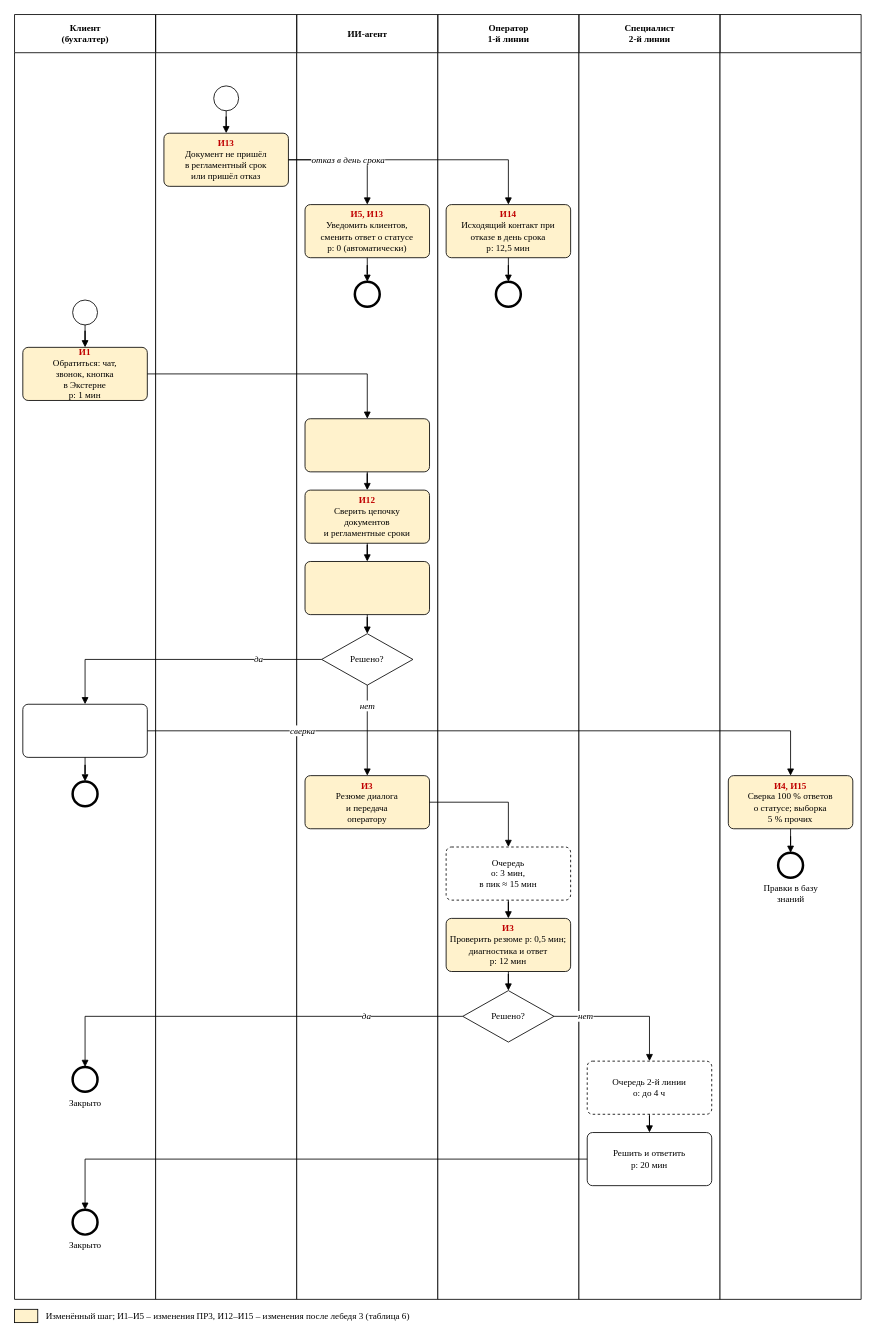
This 876x1342 diagram has some shape labels left out. Each missing label, with the box of its shape:
Вопрос по Экстерну: (72, 299, 98, 325)
Закрыто агентом: (71, 780, 98, 807)
И1 Подтянуть контекст: ИНН, статус отправки, сертификат: (304, 418, 430, 472)
И2, И12 Ответить по 20 темам; о статусе только по документам: (304, 561, 430, 615)
Клиенты оповещены: (353, 280, 381, 308)
Мониторинг (система): (155, 14, 297, 1299)
Ответ подтверждён итогом документооборота: принятый результат: (22, 703, 147, 757)
Повторная отправка: (494, 280, 522, 308)
Событие мониторинга: (213, 85, 239, 111)
Супервизор поддержки: (719, 14, 861, 1299)
